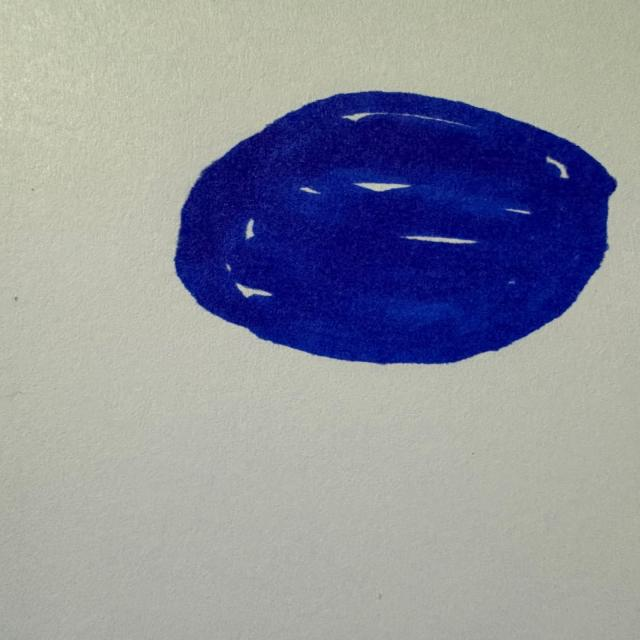Circle: (166, 86, 622, 367)
